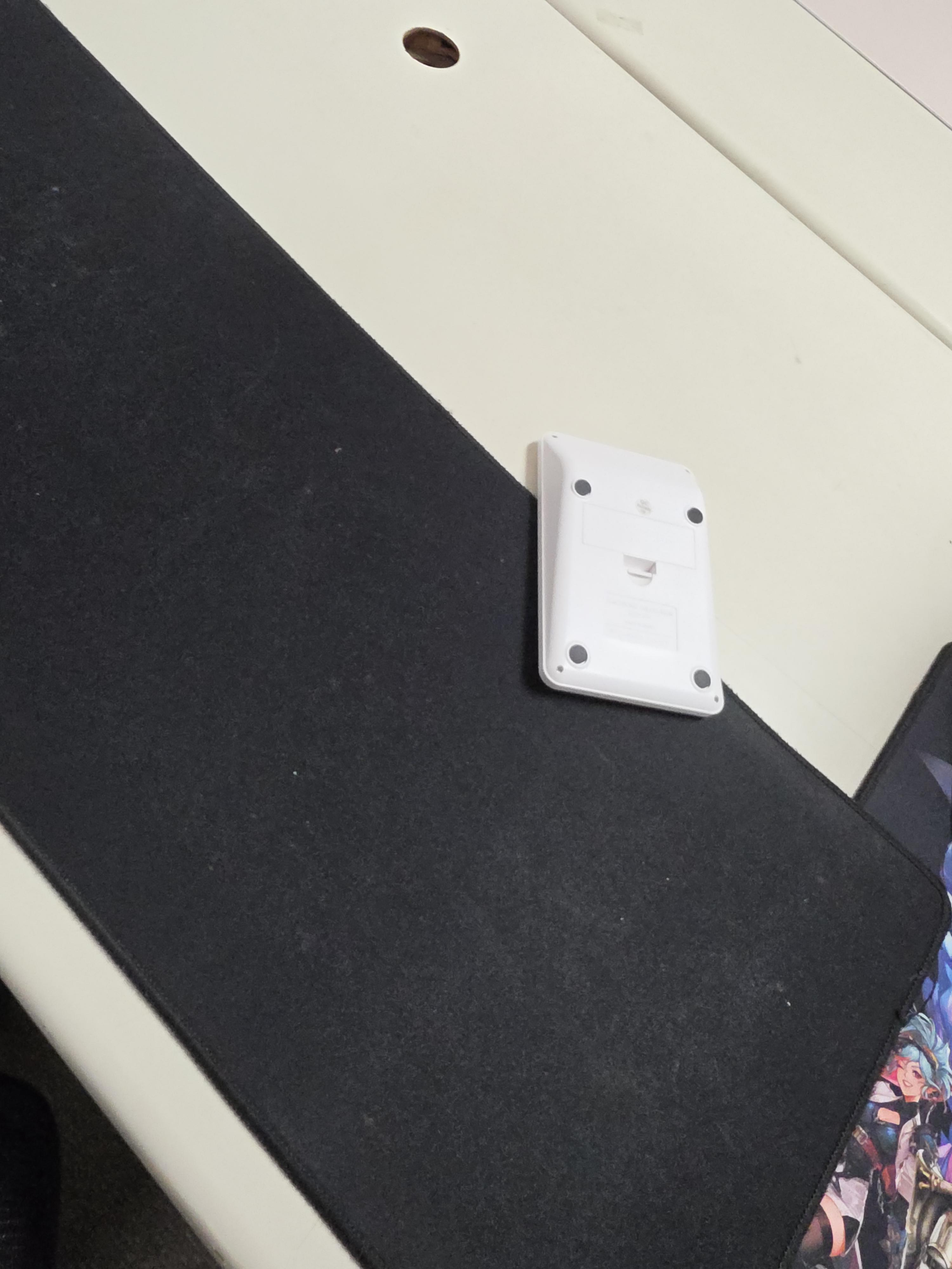calculator: (536, 431, 725, 717)
